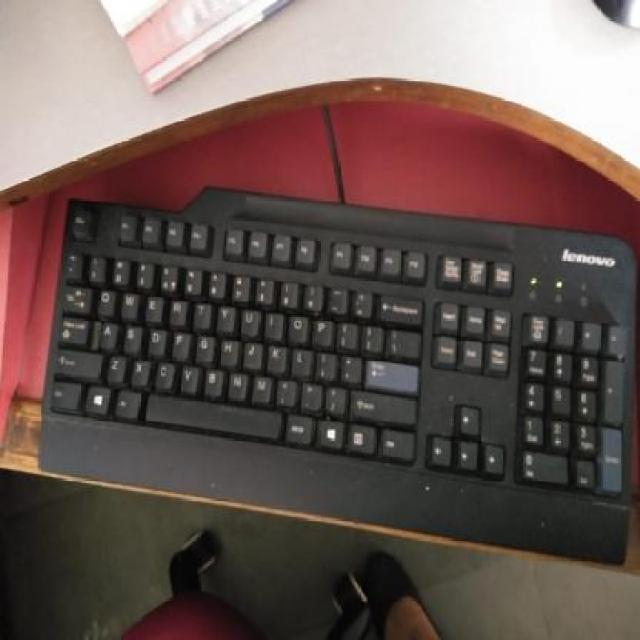keyboard: (36, 198, 632, 565)
